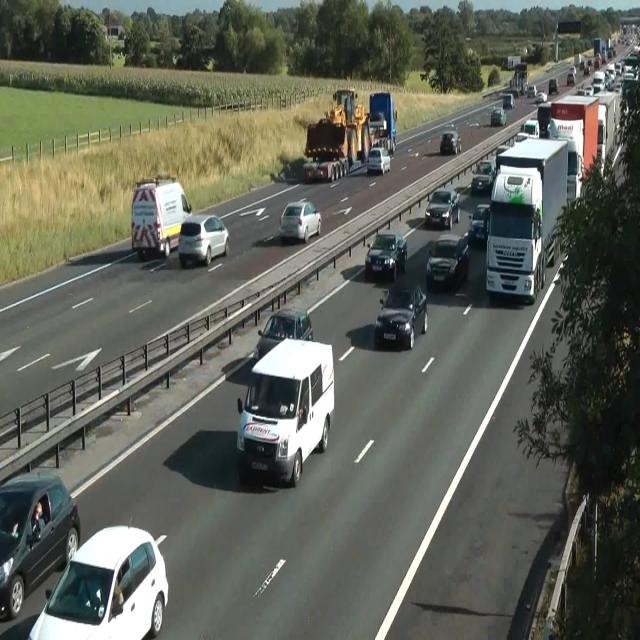bus: (374, 284, 428, 350), (253, 308, 313, 362), (178, 214, 230, 268), (365, 232, 407, 282), (278, 197, 322, 243), (424, 188, 460, 230), (468, 202, 490, 245), (470, 160, 494, 193), (366, 147, 391, 174), (515, 119, 539, 143), (439, 130, 461, 154), (492, 144, 510, 173), (491, 106, 506, 126), (577, 84, 595, 96), (534, 91, 547, 104), (502, 94, 514, 108), (514, 132, 528, 144), (548, 78, 558, 94), (526, 84, 536, 98), (567, 73, 575, 85)
jeep: (27, 519, 169, 638), (236, 336, 334, 487), (0, 466, 80, 619), (425, 232, 469, 288)
minibus: (496, 136, 568, 267), (485, 166, 546, 304), (547, 89, 622, 200), (304, 87, 370, 168), (130, 172, 192, 258), (369, 92, 397, 154), (510, 62, 528, 96), (507, 55, 521, 70)
